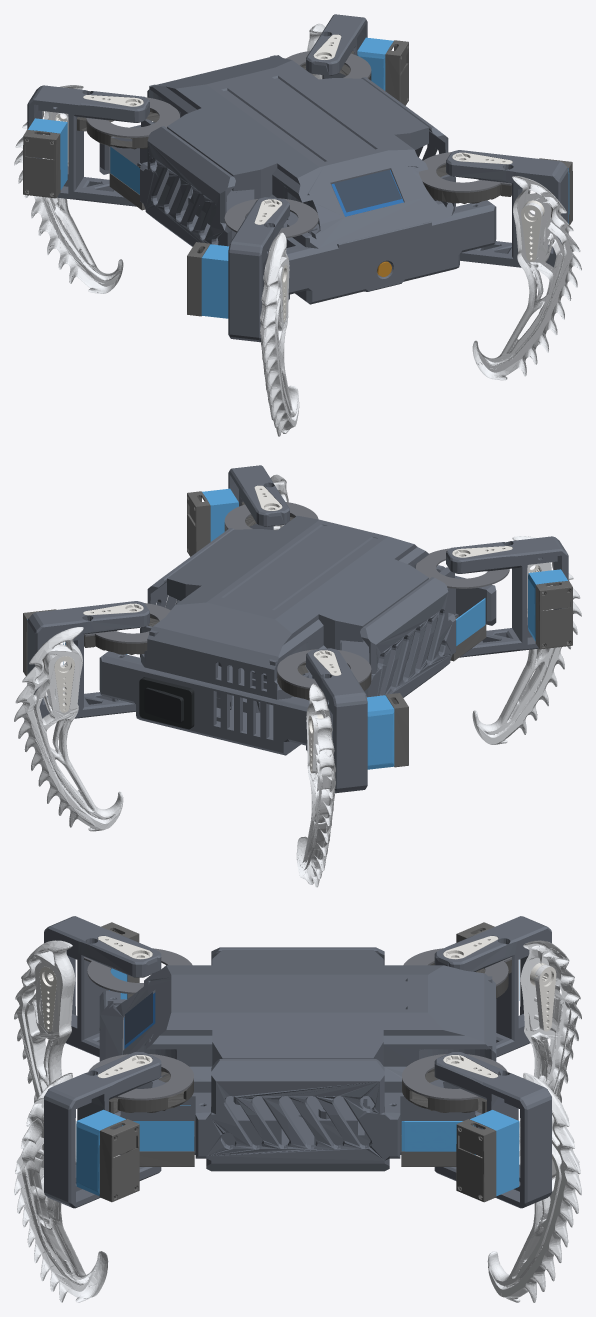
The model's file is ainekio-v1.glb.
3 renders of one model, top to bottom at view 1: azimuth 30°, elevation 25°; view 2: azimuth 150°, elevation 25°; view 3: azimuth 270°, elevation 25°, orthographic. The views are drawn at different scales.
Visible parts, largest first — view 1: geom_V1_RobotRoot_4, geom_front_left_knee_node_14, geom_rear_right_hip_node_35, geom_front_right_hip_node_17, geom_front_right_knee_node_22, geom_front_left_hip_node_9, geom_rear_right_knee_node_40, geom_rear_right_hip_node_36, geom_rear_left_hip_node_26, geom_front_right_hip_node_16, V1_FaceDisplay, geom_front_right_hip_node_19 (+11 smaller); view 2: geom_V1_RobotRoot_4, geom_rear_left_knee_node_31, geom_front_right_hip_node_17, geom_rear_right_hip_node_35, geom_rear_right_knee_node_40, geom_rear_left_hip_node_26, geom_front_right_knee_node_22, geom_front_right_hip_node_18, geom_V1_RobotRoot_0, geom_front_left_hip_node_9, geom_rear_right_hip_node_34, geom_rear_right_hip_node_37 (+11 smaller); view 3: geom_V1_RobotRoot_4, geom_front_left_hip_node_9, geom_rear_left_hip_node_26, geom_front_left_knee_node_14, geom_rear_left_knee_node_31, geom_front_right_knee_node_22, geom_rear_right_knee_node_40, geom_front_right_hip_node_17, geom_rear_right_hip_node_35, geom_V1_RobotRoot_2, geom_rear_left_hip_node_27, geom_front_left_hip_node_10 (+16 smaller).
Part boxes in pixels (<box>): geom_V1_RobotRoot_4: <box>99,55,496,304</box>; geom_front_left_knee_node_14: <box>472,176,581,380</box>; geom_rear_right_hip_node_35: <box>27,85,149,206</box>; geom_front_right_hip_node_17: <box>228,197,289,342</box>; geom_front_right_knee_node_22: <box>260,232,299,436</box>; geom_front_left_hip_node_9: <box>446,150,568,267</box>; geom_rear_right_knee_node_40: <box>14,85,123,293</box>; geom_rear_right_hip_node_36: <box>23,130,60,198</box>; geom_rear_left_hip_node_26: <box>306,14,367,78</box>; geom_front_right_hip_node_16: <box>201,244,228,318</box>; V1_FaceDisplay: <box>334,170,401,212</box>; geom_front_right_hip_node_19: <box>224,198,318,238</box>; geom_V1_RobotRoot_4: <box>99,515,496,755</box>; geom_rear_left_knee_node_31: <box>14,627,123,831</box>; geom_front_right_hip_node_17: <box>446,536,568,657</box>; geom_rear_right_hip_node_35: <box>306,648,367,793</box>; geom_rear_right_knee_node_40: <box>296,683,335,887</box>; geom_rear_left_hip_node_26: <box>27,601,149,718</box>; geom_front_right_knee_node_22: <box>472,536,581,744</box>; geom_front_right_hip_node_18: <box>535,581,572,649</box>; geom_V1_RobotRoot_0: <box>139,677,194,729</box>; geom_front_left_hip_node_9: <box>228,465,289,529</box>; geom_rear_right_hip_node_34: <box>367,695,394,769</box>; geom_rear_right_hip_node_37: <box>277,649,371,689</box>; geom_V1_RobotRoot_4: <box>99,947,496,1171</box>; geom_front_left_hip_node_9: <box>44,1052,161,1208</box>; geom_rear_left_hip_node_26: <box>434,1052,551,1208</box>; geom_front_left_knee_node_14: <box>14,1073,108,1302</box>; geom_rear_left_knee_node_31: <box>487,1073,581,1302</box>; geom_front_right_knee_node_22: <box>14,940,76,1164</box>; geom_rear_right_knee_node_40: <box>519,940,581,1164</box>; geom_front_right_hip_node_17: <box>44,916,161,1057</box>; geom_rear_right_hip_node_35: <box>434,916,551,1057</box>; geom_V1_RobotRoot_2: <box>122,999,473,1151</box>; geom_rear_left_hip_node_27: <box>456,1119,496,1202</box>; geom_front_left_hip_node_10: <box>99,1119,139,1202</box>.
Size of the model in its own units: 0.1555 by 0.0841 by 0.1747.
